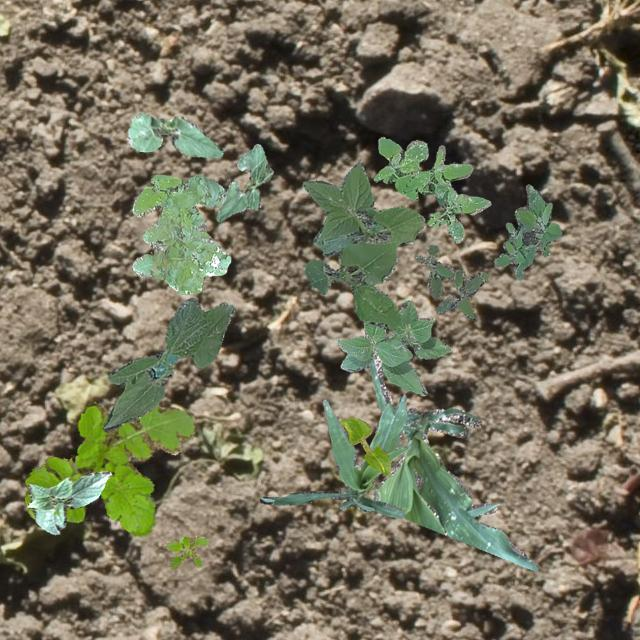crop: (368, 352, 536, 570), (258, 392, 409, 518), (102, 296, 234, 432), (336, 298, 450, 394), (26, 469, 110, 534), (215, 142, 272, 222), (125, 112, 222, 156), (338, 416, 389, 474)
weed: (23, 402, 195, 534), (302, 160, 424, 330), (372, 136, 490, 242), (132, 174, 230, 292), (492, 184, 560, 278), (414, 244, 488, 318), (164, 534, 208, 568)
